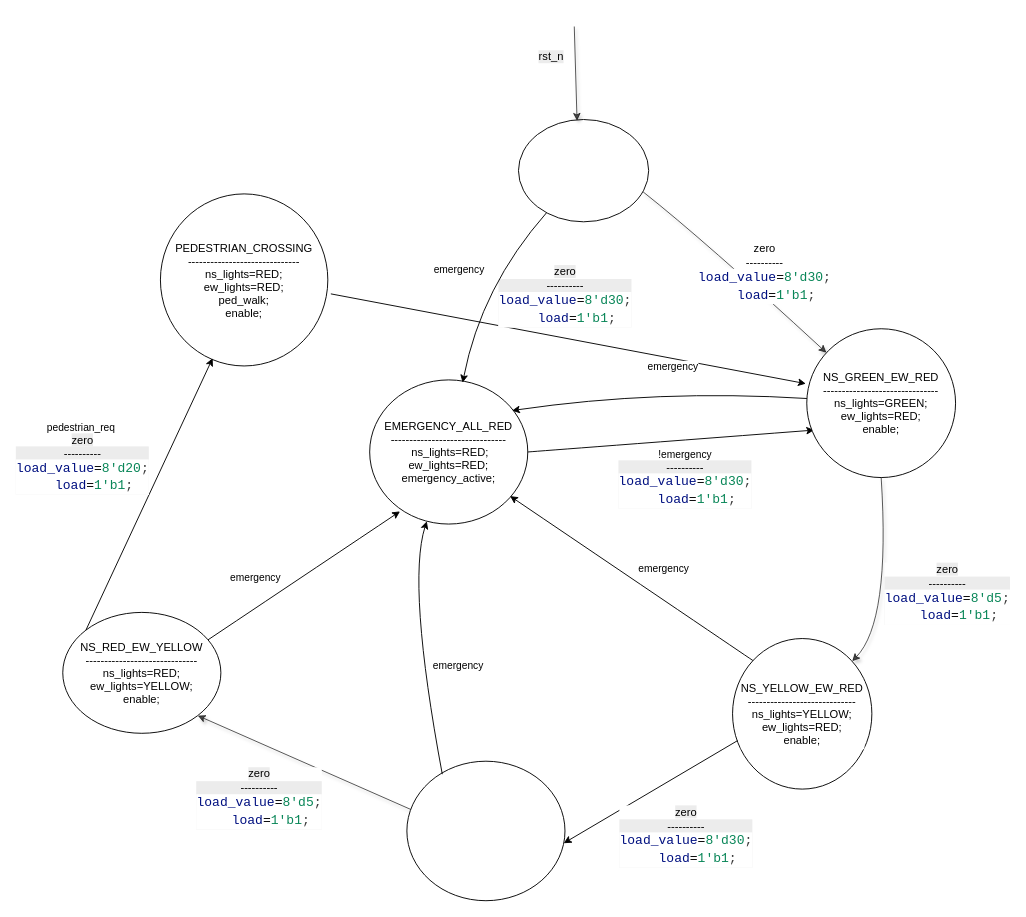
Image size: 1026x917. Some labels were removed from this diagram. Here are the shapes that lost their labels. From the top down, the centre of each, then its label:
At [583,170]: "STARTUP_FLASH ns_lights = RED; ew_lights = RED;".
At [485,830]: "NS_RED_EW_GREEN ------------ ns_lights = RED; ew_lights = GREEN; enable ;".
